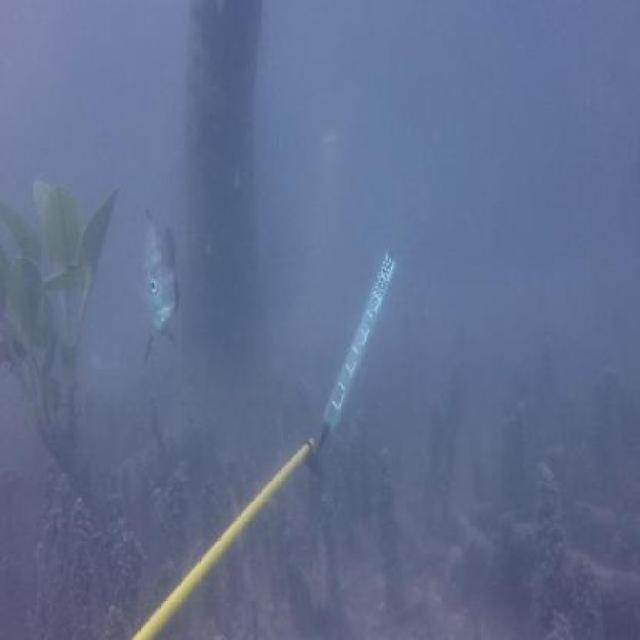acanthopagrus_palmaris: (139, 200, 187, 365)
